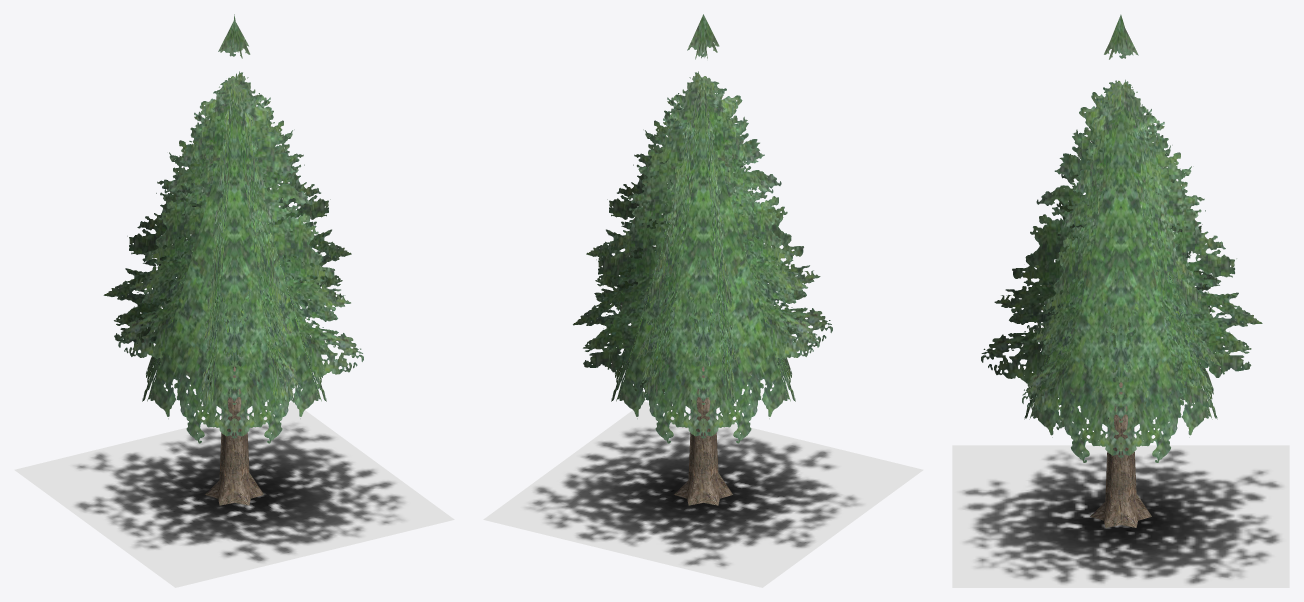
File: F2_Walk_Tree_Conifer.dae
3 renders of one model, left to right at view 1: azimuth 30°, elevation 25°; view 2: azimuth 150°, elevation 25°; view 3: azimuth 270°, elevation 25°, orthographic. The views are drawn at different scales.
Parts seen in each view (by area): view 1: polySurface2205_0_0_node, Conifer_Shadow_2_0_node, Conifer_Miki_1_0_node; view 2: polySurface2205_0_0_node, Conifer_Shadow_2_0_node, Conifer_Miki_1_0_node; view 3: polySurface2205_0_0_node, Conifer_Shadow_2_0_node, Conifer_Miki_1_0_node.
Boxes of the visible parts, x1,y1,x2,y2 form: polySurface2205_0_0_node: (103,14,363,443); Conifer_Shadow_2_0_node: (14,402,454,587); Conifer_Miki_1_0_node: (205,366,263,505); polySurface2205_0_0_node: (573,14,832,443); Conifer_Shadow_2_0_node: (483,401,923,587); Conifer_Miki_1_0_node: (674,366,732,505); polySurface2205_0_0_node: (981,14,1262,462); Conifer_Shadow_2_0_node: (952,445,1289,587); Conifer_Miki_1_0_node: (1090,382,1151,527).
Bounding box in the file's own units: 32 × 52.6 × 32.
3 materials, 3 textured.
